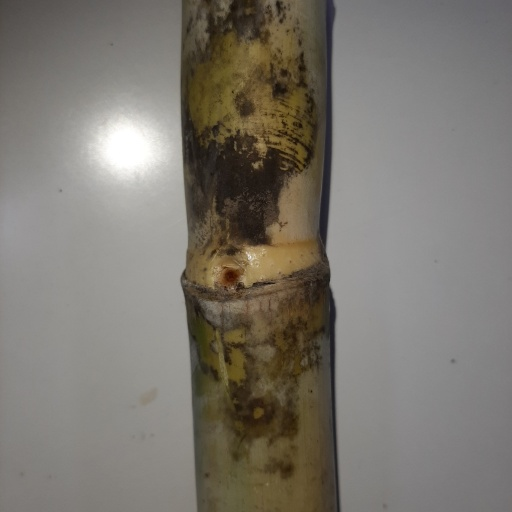Damage_Bud: (213, 264, 244, 292)
